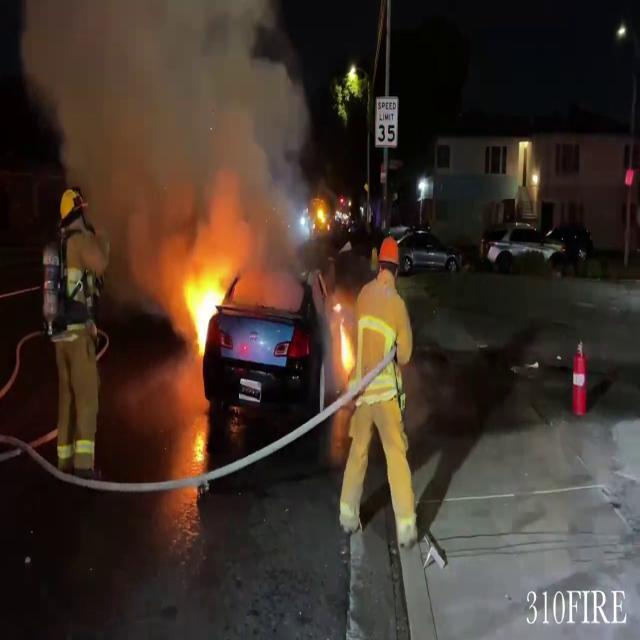Fire: (182, 264, 226, 358)
Smoke: (6, 0, 318, 278)
